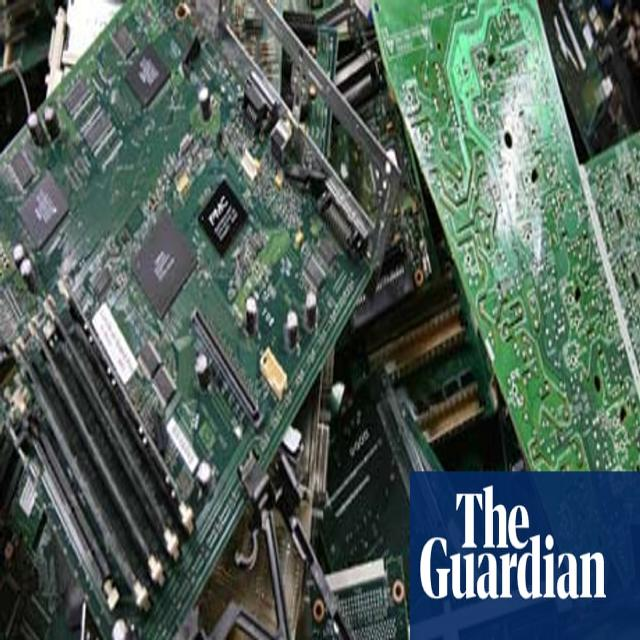hazard: (0, 5, 640, 640)
